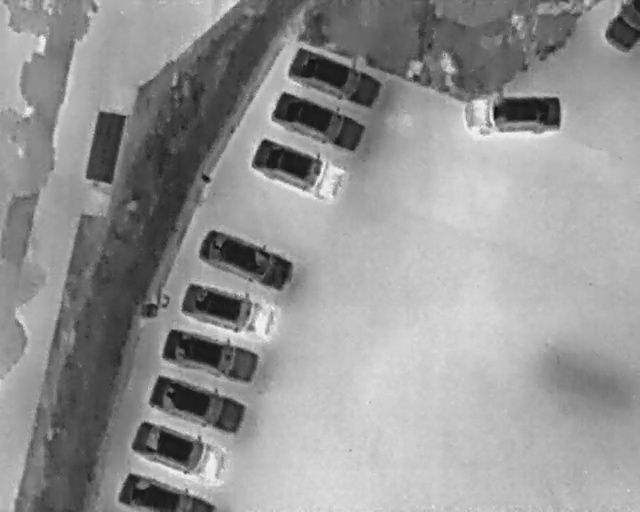Car: (115, 409, 236, 489), (189, 219, 301, 300), (243, 131, 352, 208), (280, 40, 390, 115), (141, 367, 253, 440), (263, 83, 372, 158), (176, 276, 285, 345), (157, 323, 265, 390), (461, 92, 563, 137), (115, 472, 220, 510), (603, 0, 639, 54)
